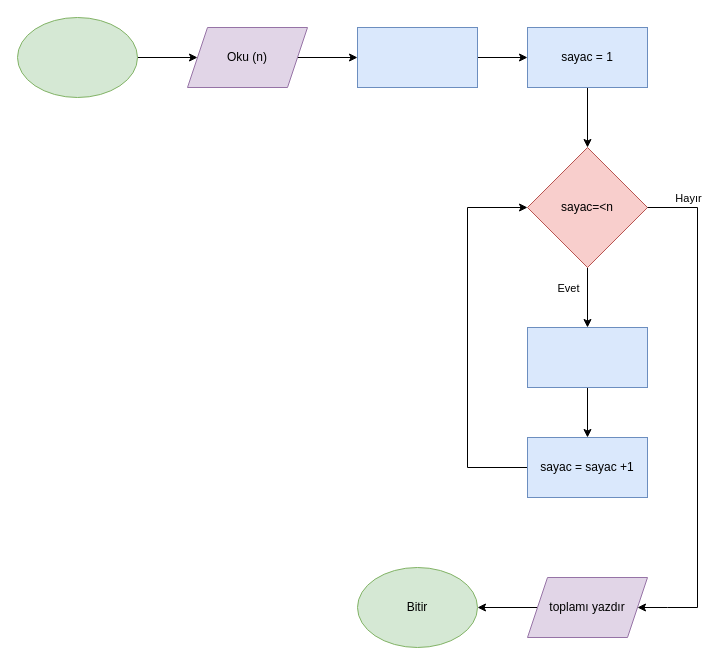
The diagram is 723 pixels wide and 665 high, and some of its shapes have lost their labels. The shapes that lost their labels are listed below. From the top down, each one's centre as x and y in pixels, then its label:
(x=77, y=57): Başla
(x=417, y=57): toplam = 0
(x=587, y=357): toplam = toplam + sayac
